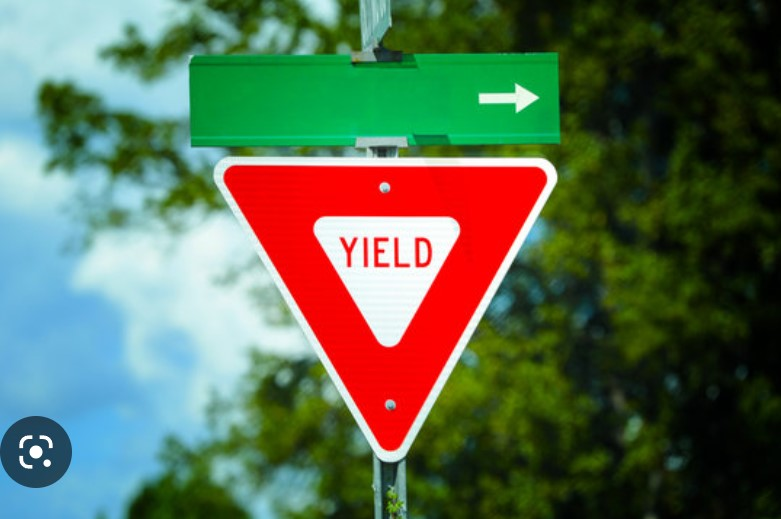Yeild: (206, 150, 561, 467)
